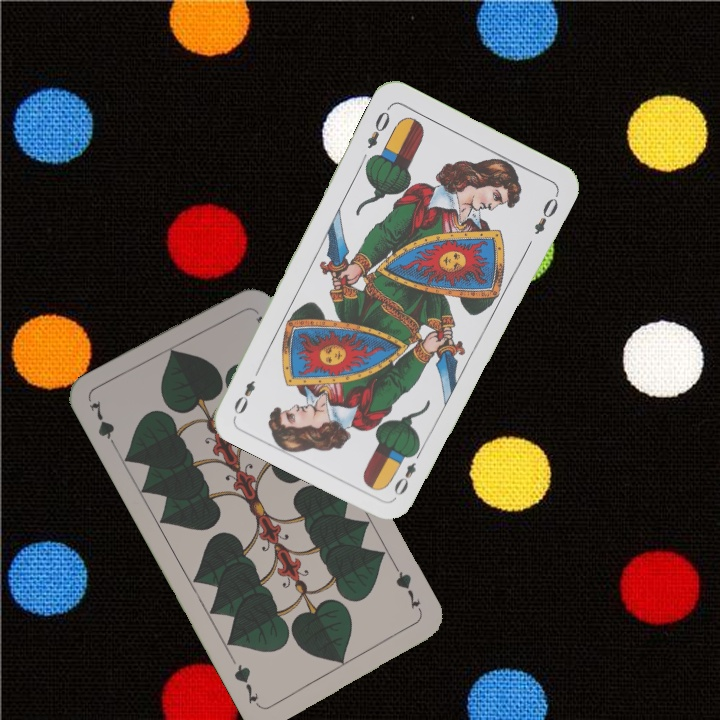EO: (389, 444, 425, 498), (363, 102, 393, 152)
G7: (85, 396, 121, 453), (390, 562, 425, 617)
